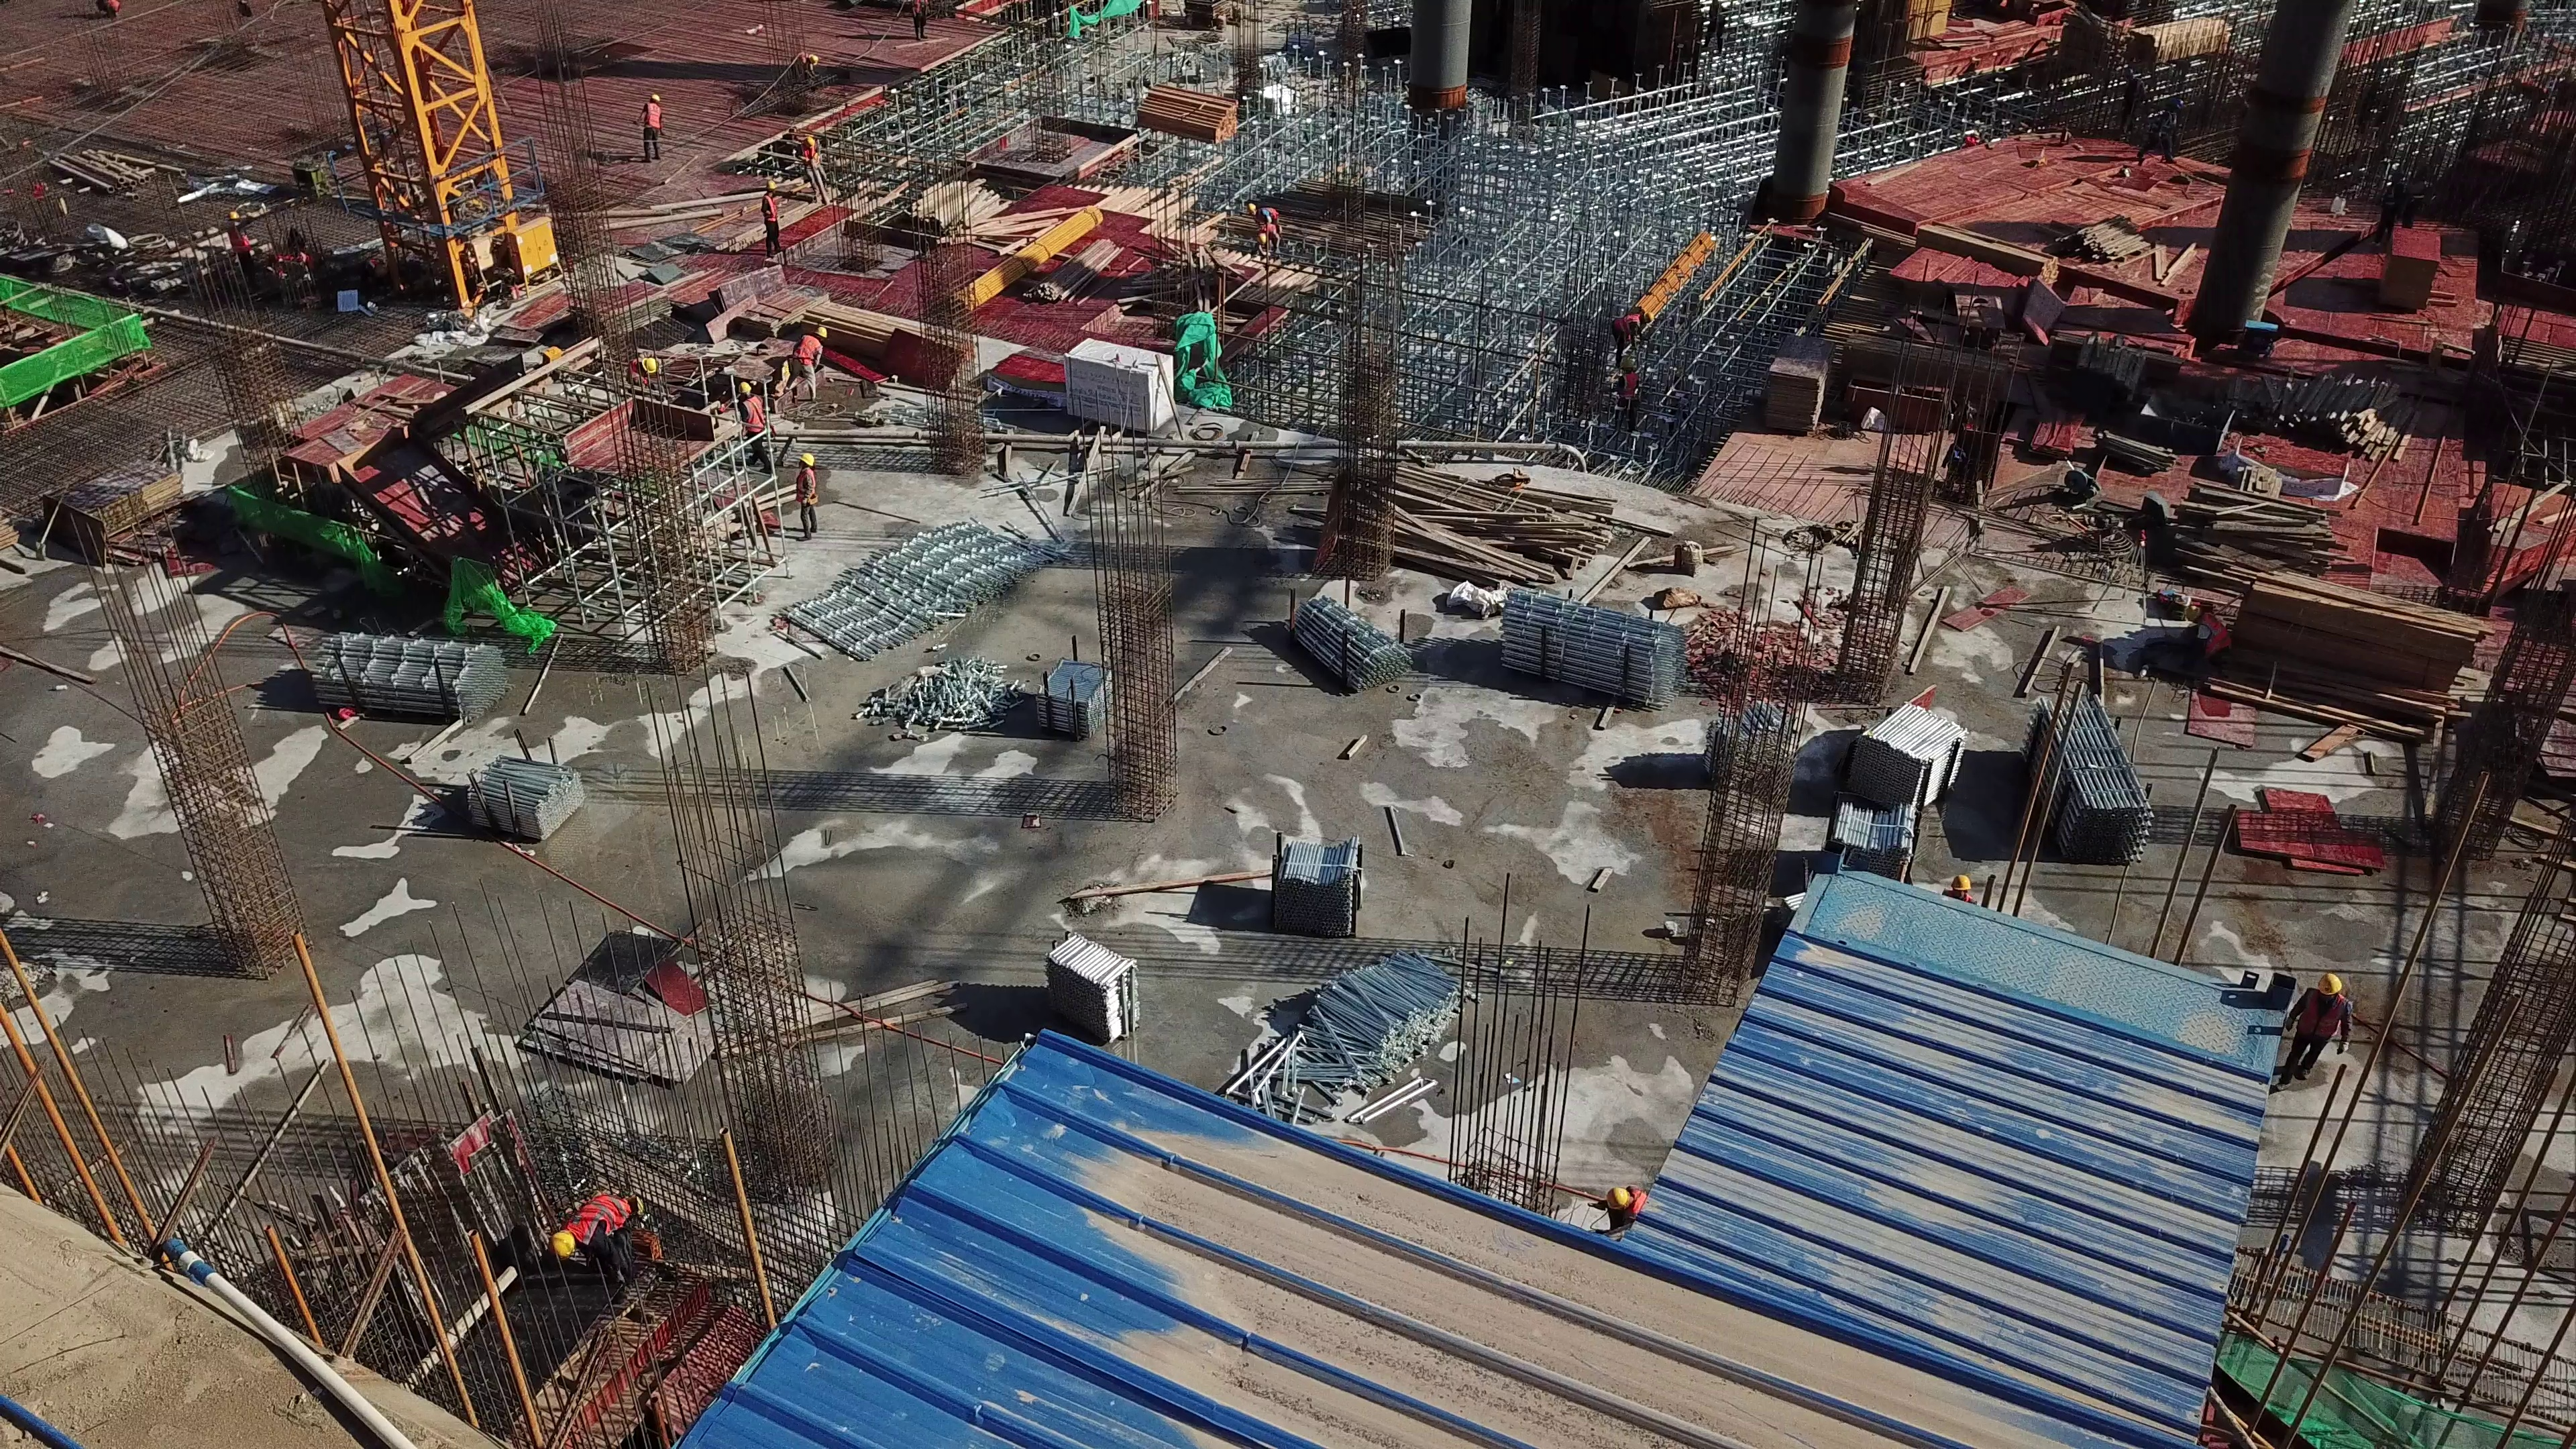board: (43, 461, 186, 555), (1767, 327, 1829, 444)
ebox: (498, 203, 559, 297)
helmet: (535, 1219, 580, 1273), (1603, 1175, 1632, 1221), (2313, 971, 2347, 1000), (2180, 590, 2206, 619), (734, 379, 762, 401), (1641, 306, 1660, 333), (810, 319, 835, 337), (794, 446, 822, 463), (801, 129, 822, 152), (639, 94, 659, 114), (1617, 358, 1633, 373), (766, 178, 777, 195)
person: (531, 1177, 647, 1275), (2290, 952, 2359, 1110), (788, 441, 828, 564), (2183, 577, 2229, 683), (777, 313, 827, 397), (740, 370, 777, 459), (1603, 306, 1653, 370), (787, 128, 826, 203), (1613, 360, 1652, 427), (758, 182, 788, 258), (641, 76, 662, 179)
scaffold: (1257, 920, 1519, 1156), (288, 608, 484, 756), (1467, 587, 1688, 695), (1271, 576, 1446, 680), (2033, 698, 2135, 861), (1040, 928, 1138, 1050), (470, 751, 583, 843), (1866, 704, 1963, 803), (1273, 835, 1364, 936), (1819, 804, 1916, 891), (1042, 653, 1114, 739)
vest: (568, 1182, 637, 1256), (2292, 988, 2354, 1048), (788, 468, 824, 521), (2192, 621, 2233, 664), (1605, 307, 1642, 354), (738, 409, 775, 444), (760, 202, 788, 235), (1616, 370, 1641, 403), (635, 119, 659, 148), (800, 148, 820, 179), (790, 341, 816, 366)
wood: (2168, 488, 2489, 709), (1275, 430, 1651, 610), (2223, 364, 2418, 462), (805, 296, 962, 392), (1833, 328, 2020, 405), (2043, 211, 2197, 280), (883, 164, 1006, 246), (1122, 78, 1250, 148), (2075, 325, 2151, 414), (2123, 11, 2235, 66)
